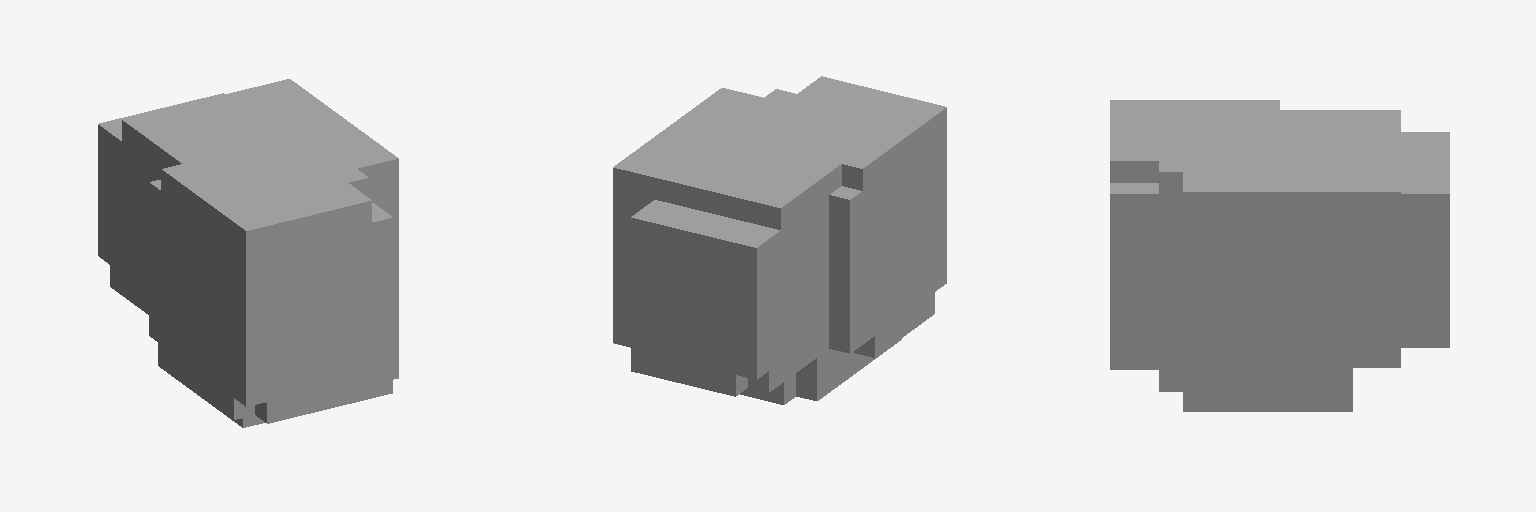
The picture shows the model from 3 angles: view 1: azimuth 30°, elevation 25°; view 2: azimuth 150°, elevation 25°; view 3: azimuth 270°, elevation 25°; orthographic projection.
Visible parts, largest first — view 1: R_Forearm; view 2: R_Forearm; view 3: R_Forearm.
Boxes of the visible parts, x1,y1,x2,y2 form: R_Forearm: [98, 79, 398, 427]; R_Forearm: [613, 76, 946, 404]; R_Forearm: [1110, 100, 1449, 411].
Size of the model in its own units: 0.9 by 1 by 1.4.
Materials: 1 (1 with a texture image).